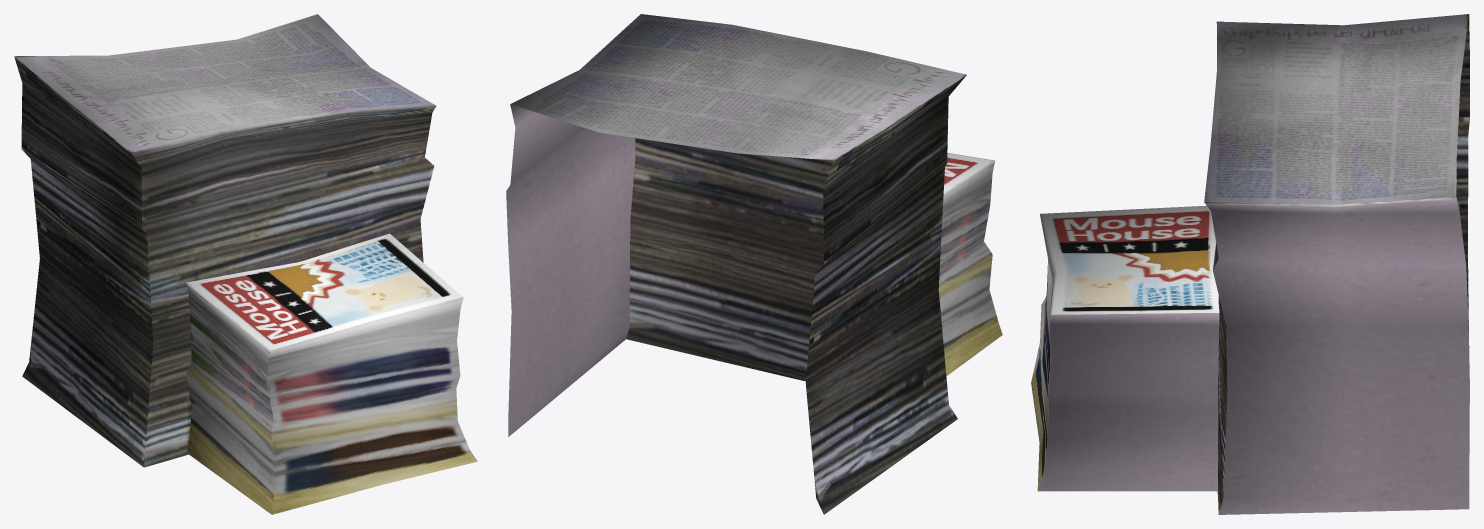
Rendered from Box01_homeless.FBX.
The picture shows the model from 3 angles, left to right: view 1: azimuth 30°, elevation 25°; view 2: azimuth 150°, elevation 25°; view 3: azimuth 270°, elevation 25°; orthographic projection. The views are drawn at different scales.
Parts seen in each view (by area): view 1: box01_homeless; view 2: box01_homeless; view 3: box01_homeless.
Boxes of the visible parts, x1,y1,x2,y2 form: box01_homeless: (14,14,477,514); box01_homeless: (506,14,1002,514); box01_homeless: (1031,14,1469,514).
Size of the model in its own units: 2.86 by 2.88 by 3.32.
Materials: 1 (1 with a texture image).
